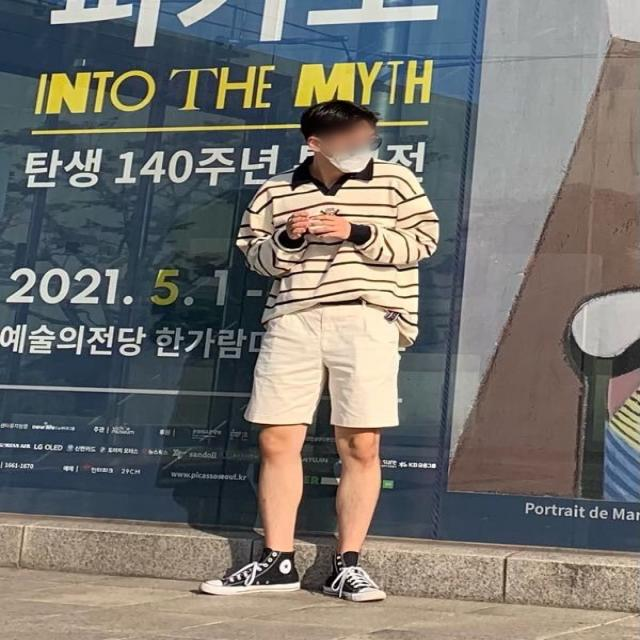mtm: (236, 151, 437, 348)
shortpants: (242, 297, 402, 432)
